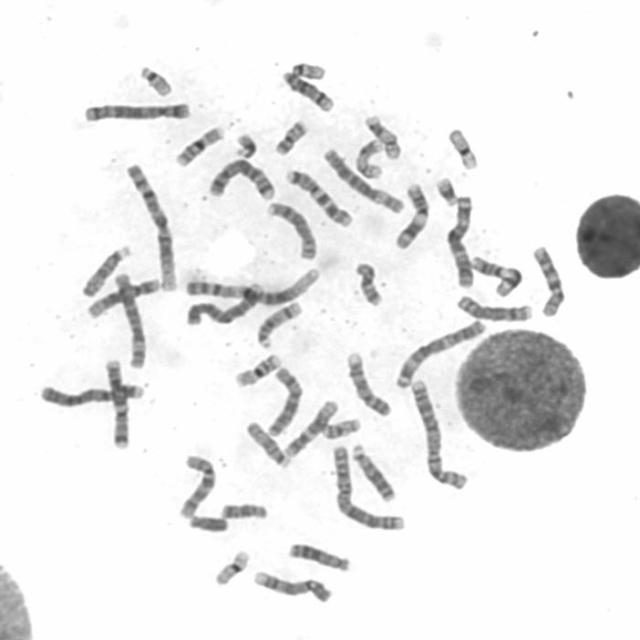A1: (120, 161, 182, 294), (182, 263, 324, 305)
A2: (408, 377, 472, 494), (331, 439, 409, 534)
A3: (393, 317, 491, 391), (441, 192, 480, 293)
B4: (183, 280, 267, 328), (34, 381, 148, 411)
B5: (80, 96, 194, 127), (206, 156, 276, 202)
C10: (175, 453, 218, 520), (530, 244, 568, 319)
C11: (393, 181, 431, 251), (468, 254, 524, 298)
C12: (282, 396, 342, 459), (86, 274, 161, 322)
C6: (317, 145, 408, 216), (110, 270, 148, 372)
C7: (282, 167, 354, 229), (100, 356, 133, 454)
C8: (264, 200, 319, 262), (453, 293, 537, 325)
C9: (345, 347, 393, 418), (250, 567, 334, 606)
D13: (348, 442, 398, 505), (286, 541, 352, 575)
D14: (252, 301, 306, 349), (279, 70, 336, 114)
D15: (79, 240, 136, 300), (242, 418, 294, 469)
E16: (173, 124, 229, 170), (232, 351, 282, 391)
E17: (362, 113, 403, 161), (352, 136, 386, 181)
E18: (351, 260, 387, 308), (220, 500, 270, 522)
F19: (212, 549, 255, 588), (446, 123, 479, 173)
F20: (272, 117, 311, 158), (319, 417, 364, 444)
G21: (433, 174, 460, 206), (231, 130, 259, 160)
G22: (136, 63, 174, 98), (290, 57, 326, 82)
X: (266, 364, 306, 438)
Y: (187, 512, 231, 536)
